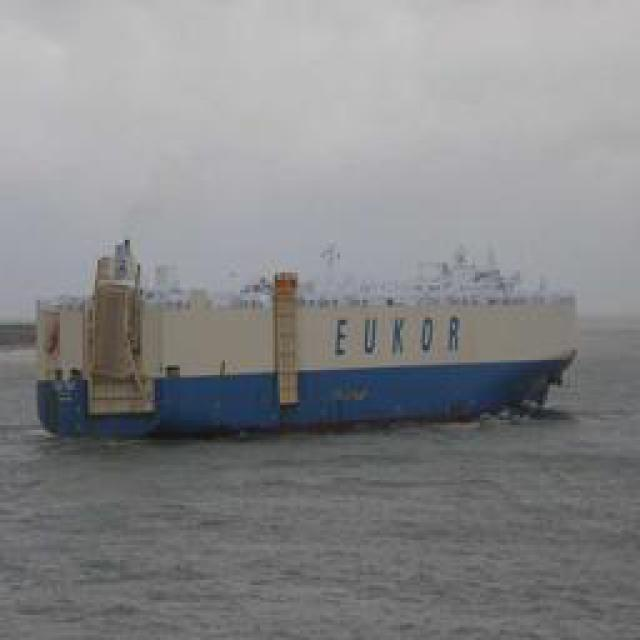Ship: (22, 231, 582, 434)
